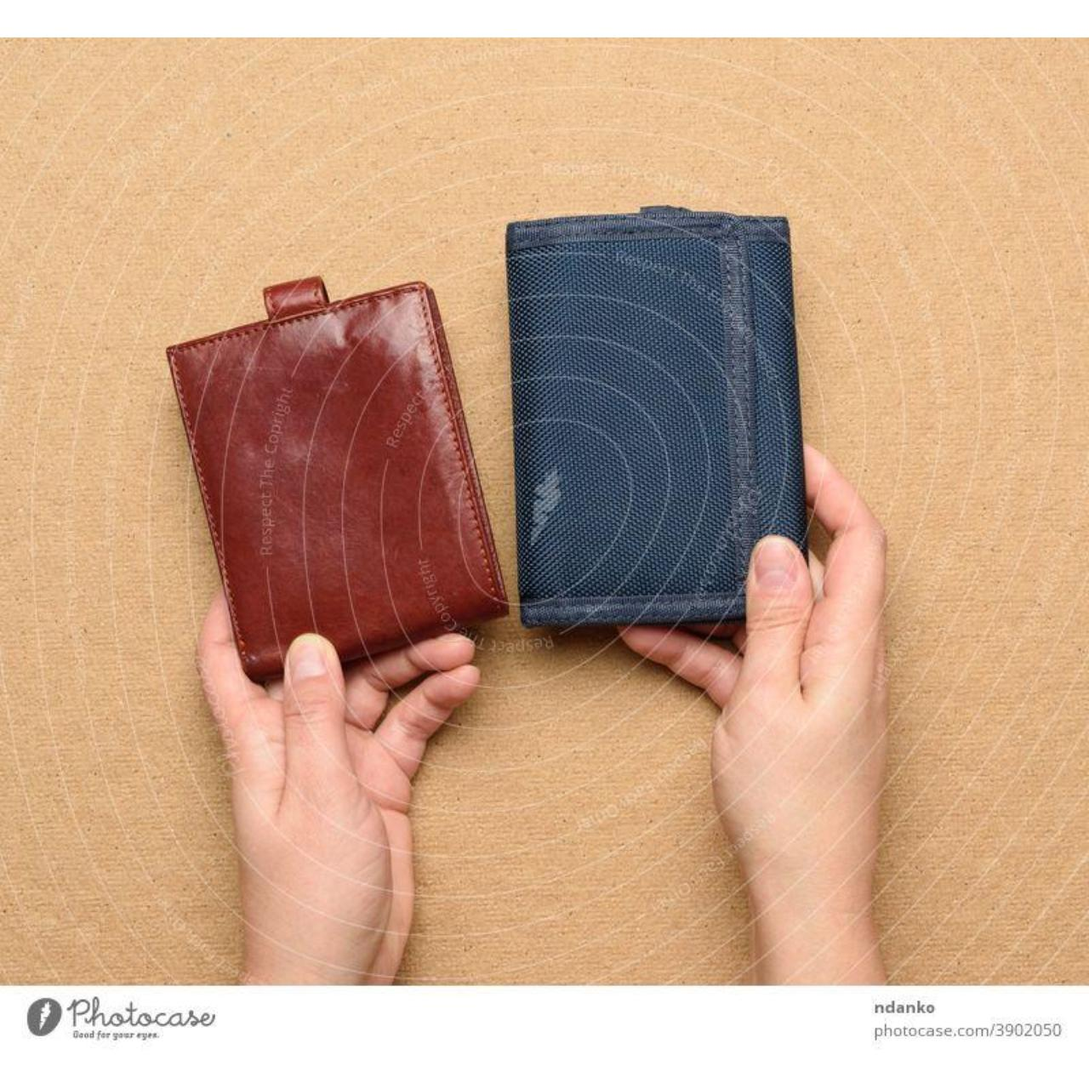wallet: (170, 263, 500, 754), (499, 195, 804, 629)
